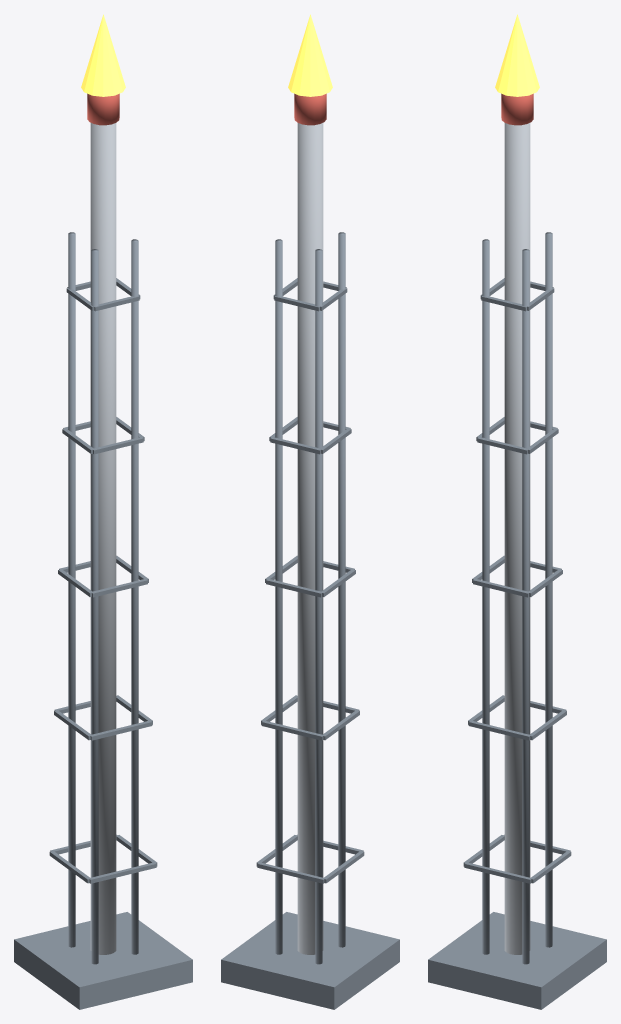
Rendered from flare_stack.glb.
3 views of the same model, side by side, from view 1: azimuth 30°, elevation 25°; view 2: azimuth 150°, elevation 25°; view 3: azimuth 330°, elevation 25° (orthographic).
Parts seen in each view (by area): view 1: FlareRiser, FlareBase, Leg_2, Leg_3, Leg_1, FlareFlame, FlareTip, RingS_4.0; view 2: FlareRiser, FlareBase, Leg_1, Leg_0, Leg_2, FlareFlame, FlareTip, RingN_4.0; view 3: FlareRiser, FlareBase, Leg_3, Leg_2, Leg_0, FlareFlame, FlareTip, RingS_4.0.
Boxes of the visible parts, x1,y1,x2,y2 form: FlareRiser: (90, 123, 116, 954); FlareBase: (14, 912, 192, 1009); Leg_2: (91, 249, 98, 964); Leg_3: (131, 239, 138, 954); Leg_1: (68, 232, 75, 947); FlareFlame: (81, 14, 125, 96); FlareTip: (87, 93, 119, 125); RingS_4.0: (89, 862, 156, 883); FlareRiser: (297, 123, 323, 954); FlareBase: (221, 912, 399, 1009); Leg_1: (315, 249, 322, 964); Leg_0: (275, 239, 282, 954); Leg_2: (338, 232, 345, 947); FlareFlame: (288, 14, 332, 96); FlareTip: (294, 93, 326, 125); RingN_4.0: (257, 862, 324, 883); FlareRiser: (504, 123, 530, 954); FlareBase: (428, 912, 606, 1009); Leg_3: (522, 249, 529, 964); Leg_2: (482, 239, 489, 954); Leg_0: (545, 232, 552, 947); FlareFlame: (495, 14, 539, 96); FlareTip: (501, 93, 533, 125); RingS_4.0: (464, 862, 531, 883).
Bounding box in the file's own units: 4.2 × 33.9 × 4.2.
